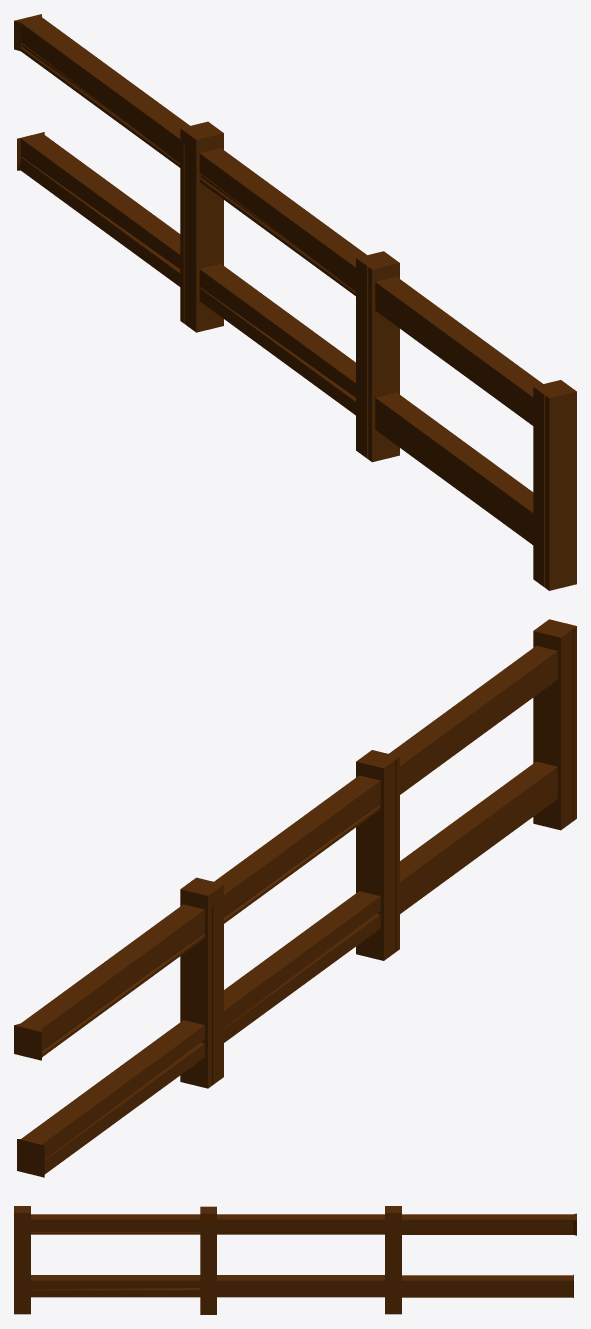
The model's file is fence.obj.
The picture shows the model from 3 angles, top to bottom: view 1: azimuth 30°, elevation 25°; view 2: azimuth 150°, elevation 25°; view 3: azimuth 270°, elevation 25°; orthographic projection. The views are drawn at different scales.
Parts seen in each view (by area): view 1: polySurface42; view 2: polySurface42; view 3: polySurface42.
Boxes of the visible parts, <box> form: polySurface42: <box>14,14,576,590</box>; polySurface42: <box>14,619,576,1177</box>; polySurface42: <box>14,1206,576,1314</box>.
Bounding box in the file's own units: 0.3323 × 2.21 × 11.1.
